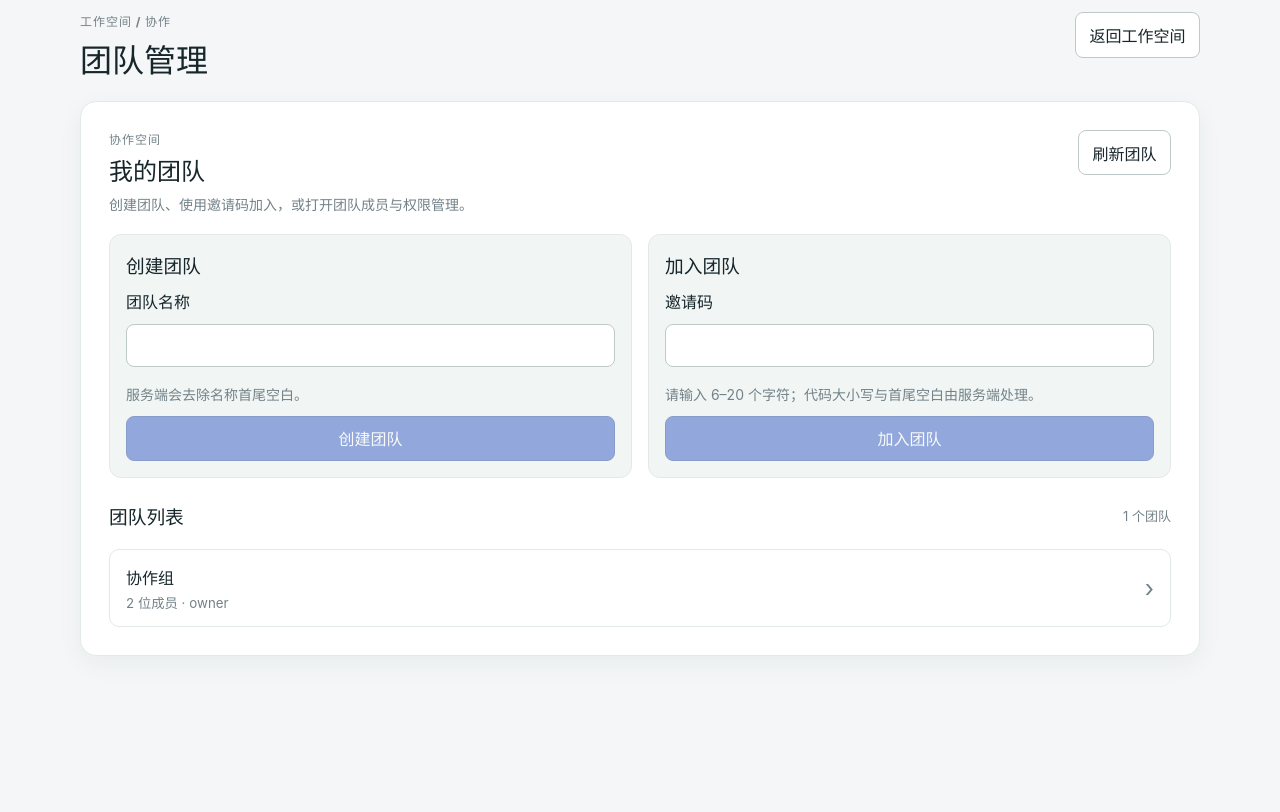
Scenario: TeamsPage › keeps the existing draft confirmation when opening the reporting tab
The image size is (1280, 812).
Click the button "协作组 2 位成员 · owner ›" at (150, 578), box 109,549 -> 1171,627
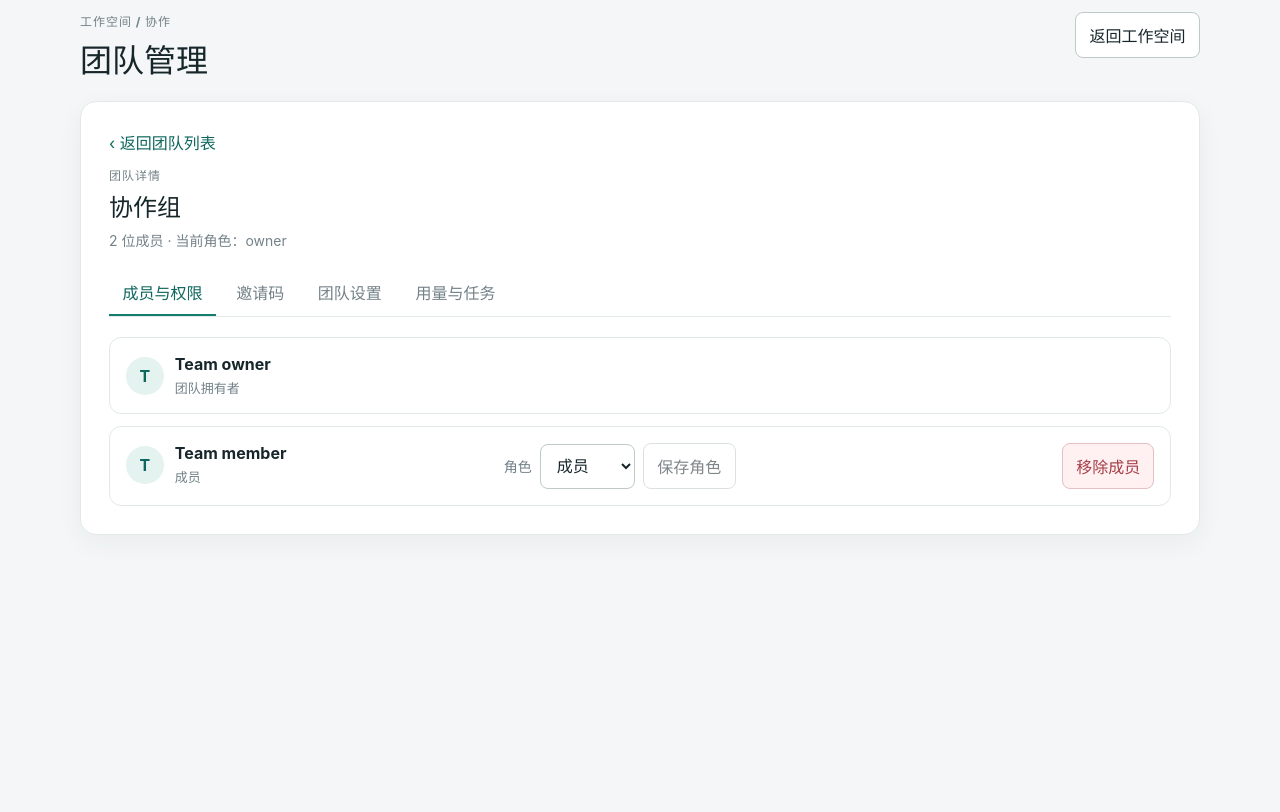
Now the heading "协作组" is shown, box 109,193 -> 181,222
Click the tab "团队设置" at (350, 293), box 304,270 -> 395,316
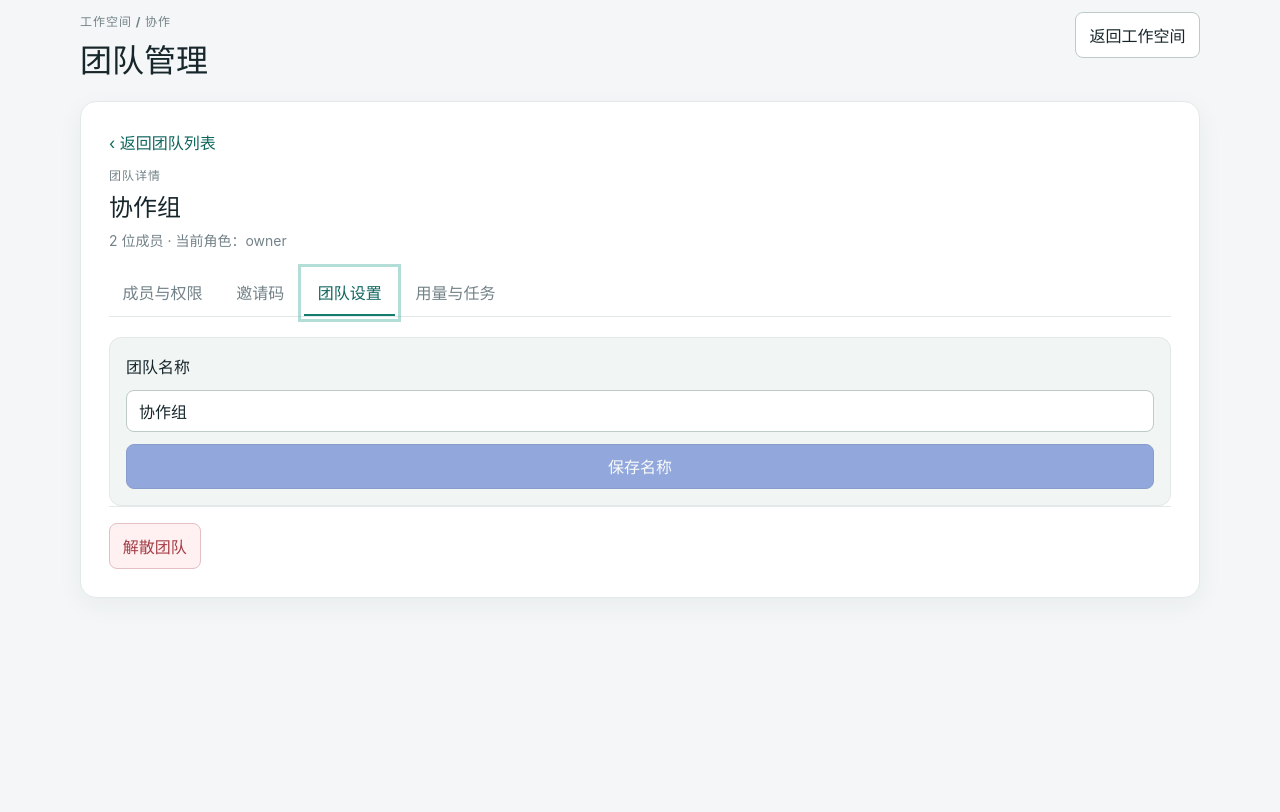
Replace the text in the field labelled "团队名称" with "草稿名称" at (640, 411), box 126,390 -> 1154,432
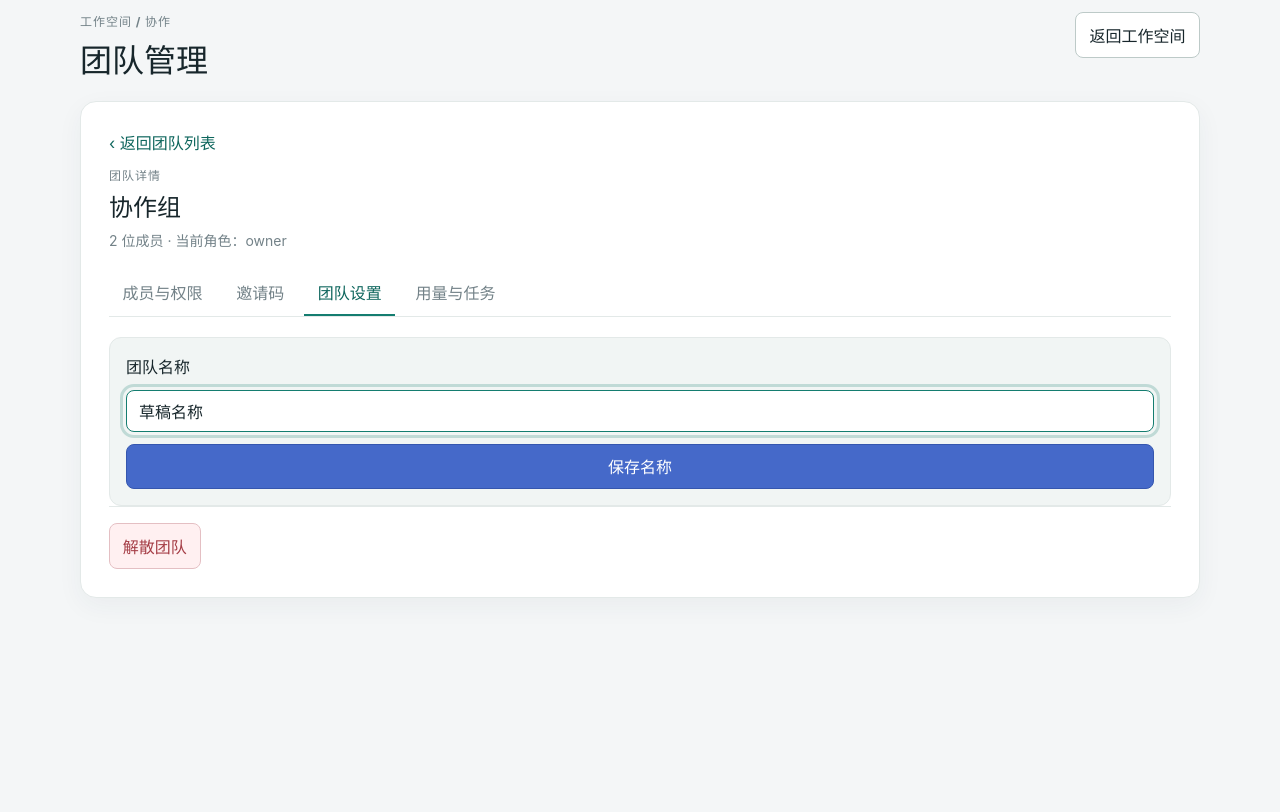
Click the tab "用量与任务" at (455, 293), box 402,270 -> 509,316
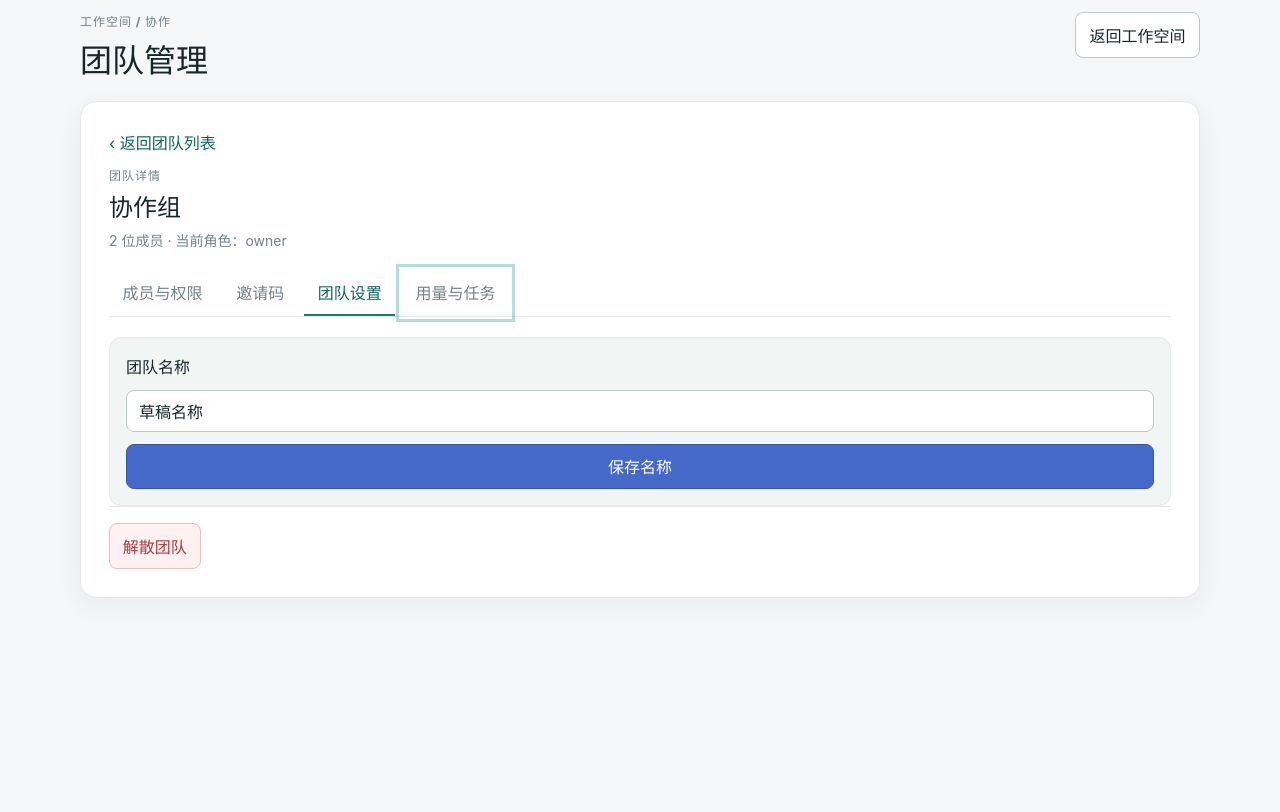
Now the tab "团队设置" is selected, box 304,270 -> 395,316
Click the tab "用量与任务" at (455, 293), box 402,270 -> 509,316
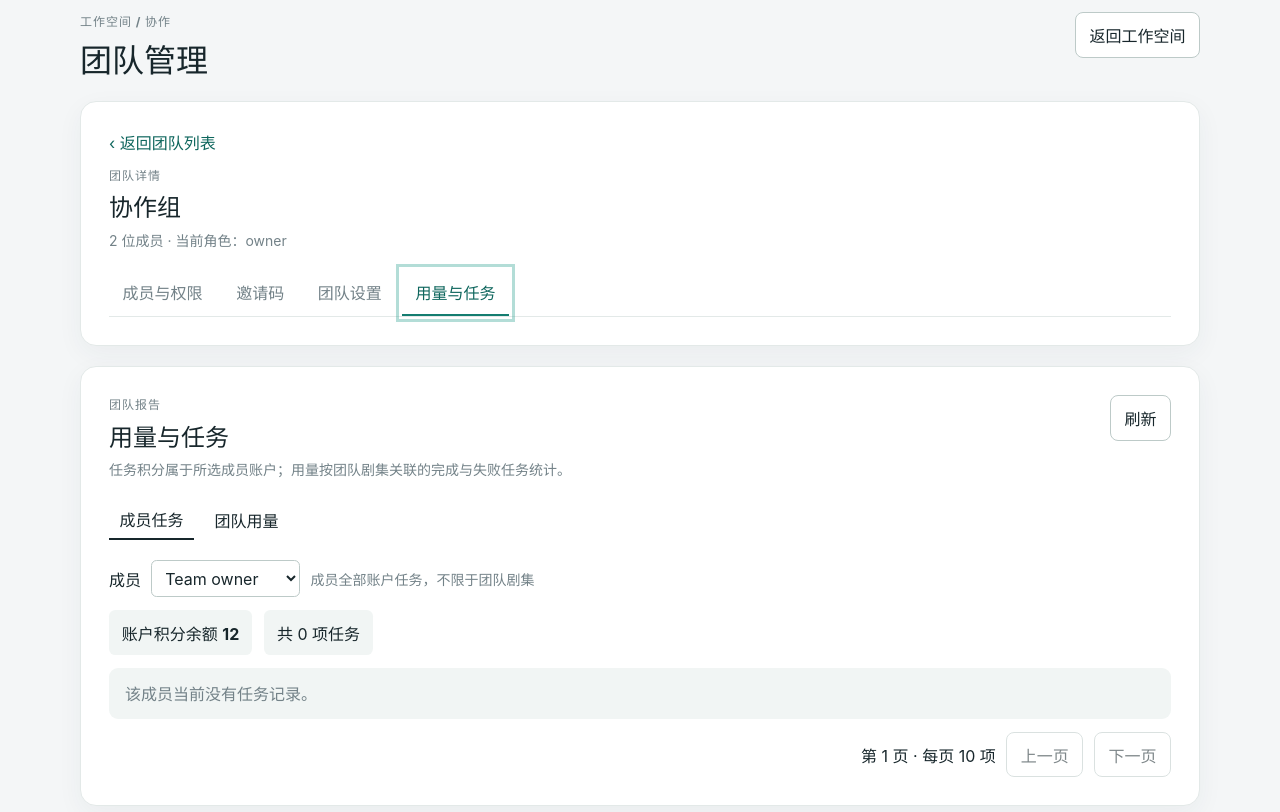
Now the text "该成员当前没有任务记录。" is shown, box 109,668 -> 1171,719
